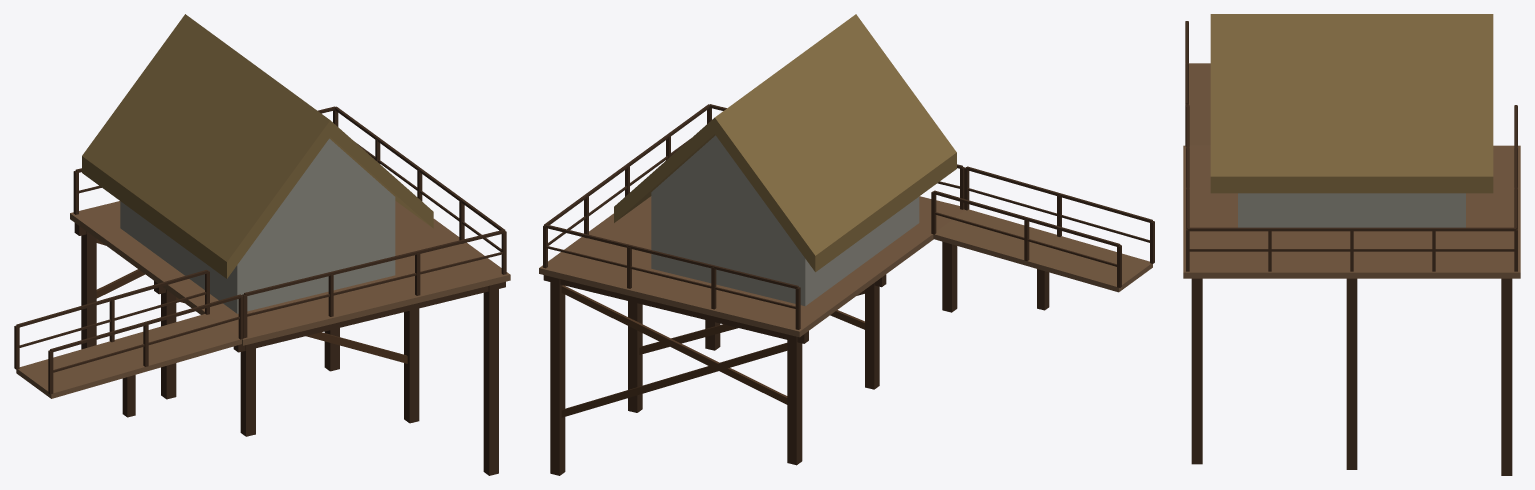
The model's file is SM_FishersCove_Hut7.fbx.
3 views of the same model, side by side, from view 1: azimuth 30°, elevation 25°; view 2: azimuth 150°, elevation 25°; view 3: azimuth 270°, elevation 25° (orthographic). The views are drawn at different scales.
Visible parts, largest first — view 1: SM_FishersCove_Hut7; view 2: SM_FishersCove_Hut7; view 3: SM_FishersCove_Hut7.
Boxes of the visible parts, left/top/right/bottom form: SM_FishersCove_Hut7: left=14, top=14, right=510, bottom=475; SM_FishersCove_Hut7: left=539, top=14, right=1154, bottom=475; SM_FishersCove_Hut7: left=1183, top=14, right=1520, bottom=475.
Size of the model in its own units: 11.34 by 9.36 by 7.4.
